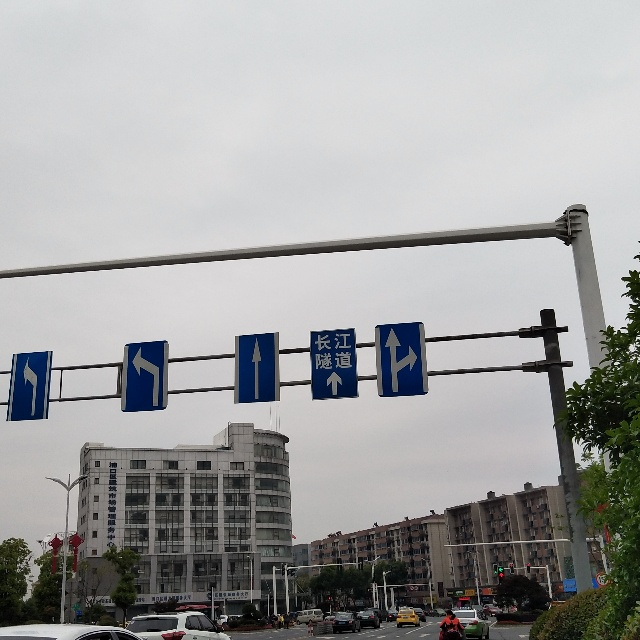left: (129, 347, 167, 411), (12, 355, 42, 411)
straight: (243, 333, 272, 405)
